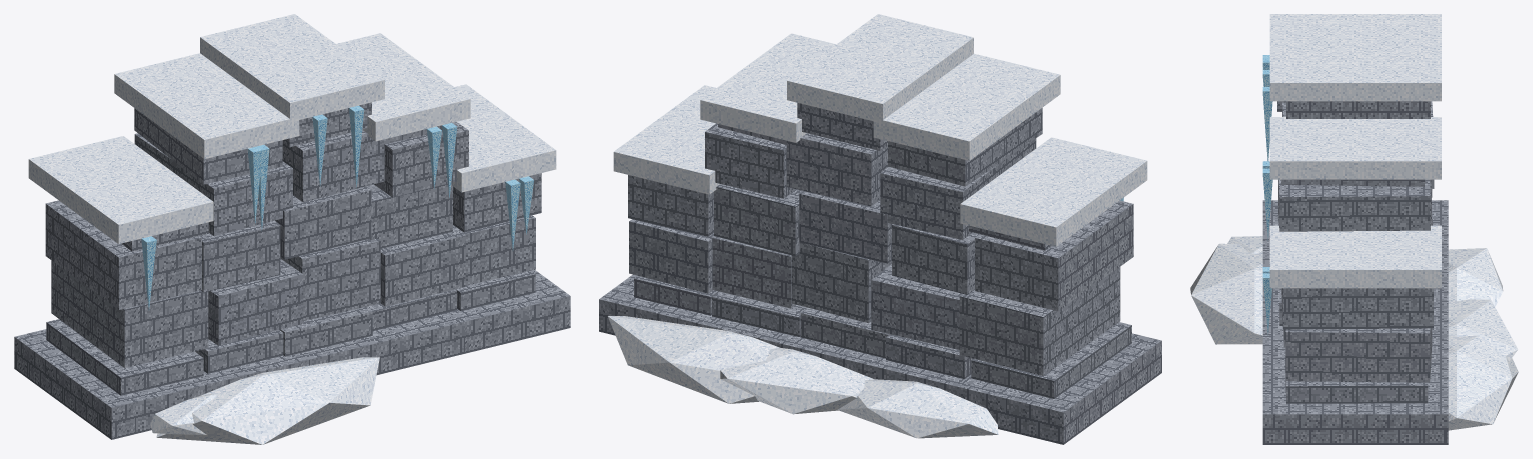
File: cover_ruin_snow.glb
The picture shows the model from 3 angles, left to right: view 1: azimuth 30°, elevation 25°; view 2: azimuth 150°, elevation 25°; view 3: azimuth 270°, elevation 25°; orthographic projection. The views are drawn at different scales.
Parts seen in each view (by area): view 1: Body.001; view 2: Body.001; view 3: Body.001.
Part boxes in pixels (x1=…): Body.001: x1=14, y1=14, x2=570, y2=444; Body.001: x1=599, y1=14, x2=1161, y2=444; Body.001: x1=1190, y1=14, x2=1518, y2=444.
Bounding box in the file's own units: 3 × 1.93 × 1.95.
Materials: 3 (3 with a texture image).
